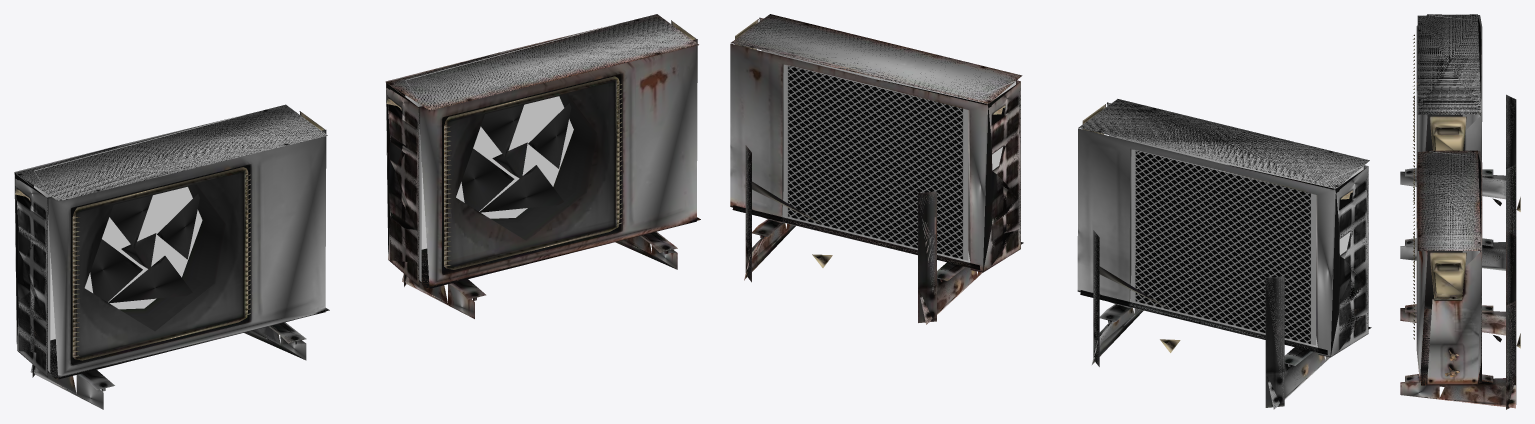
The model's file is exterior_aircon_unit.glb.
The picture shows the model from 3 angles, left to right: view 1: azimuth 30°, elevation 25°; view 2: azimuth 150°, elevation 25°; view 3: azimuth 270°, elevation 25°; orthographic projection. The views are drawn at different scales.
Visible parts, largest first — view 1: exterior_aircon_unit, exterior_aircon_unit_rusted; view 2: exterior_aircon_unit, exterior_aircon_unit_rusted; view 3: exterior_aircon_unit_rusted, exterior_aircon_unit.
Boxes of the visible parts, x1,y1,x2,y2 form: exterior_aircon_unit: (14,104,329,409); exterior_aircon_unit_rusted: (385,14,700,318); exterior_aircon_unit: (1077,99,1371,409); exterior_aircon_unit_rusted: (730,14,1023,324); exterior_aircon_unit_rusted: (1400,150,1520,409); exterior_aircon_unit: (1400,14,1520,270).
Bounding box in the file's own units: 1.8 × 0.5877 × 0.3742.
4 materials, 4 textured.
